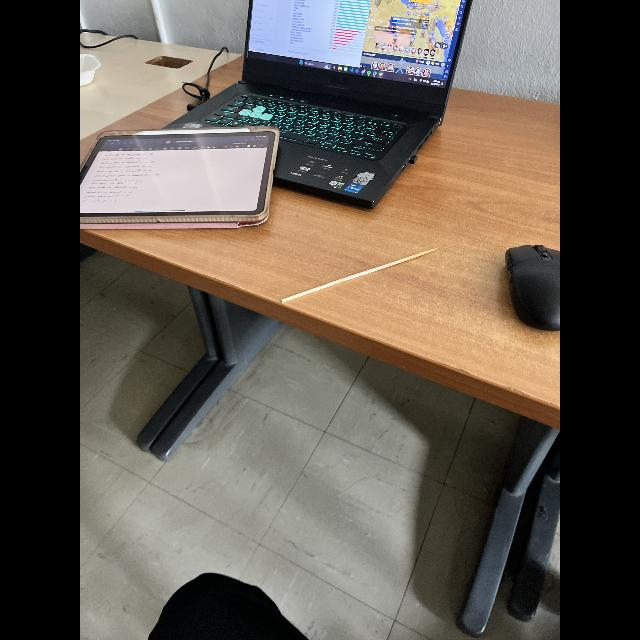stick: (270, 234, 452, 316)
